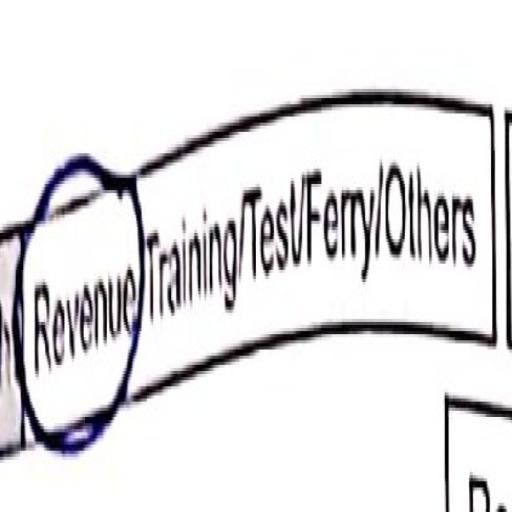check: (8, 131, 144, 512)
